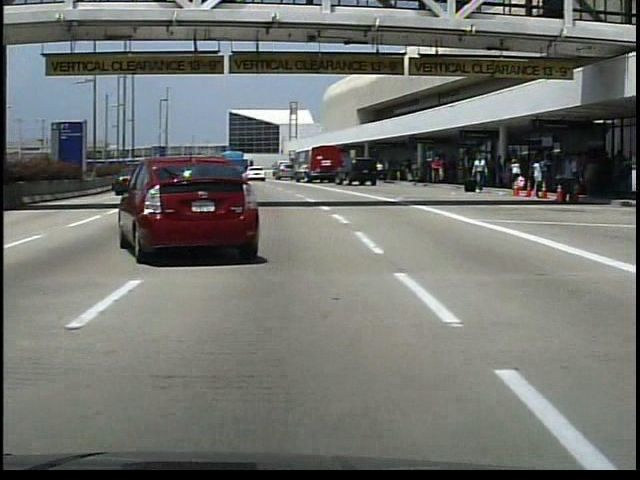person: (556, 154, 576, 206), (471, 154, 490, 195), (430, 155, 445, 184), (375, 161, 386, 182)
